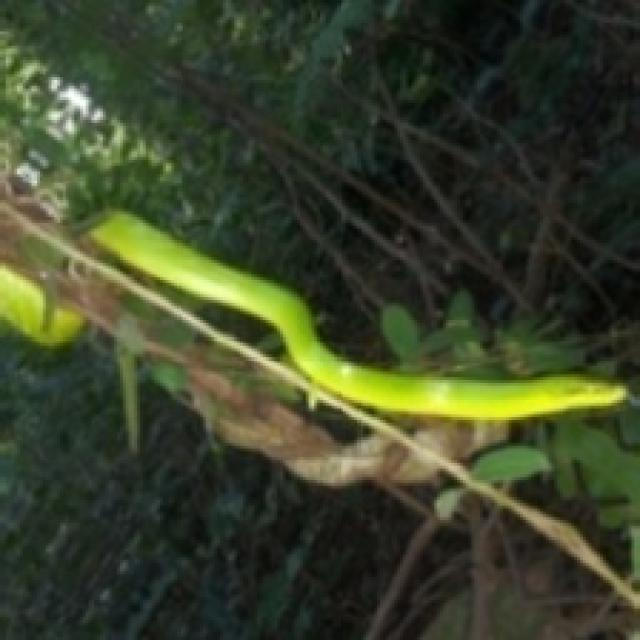red-tailed green ratsnake: (89, 211, 626, 417)
